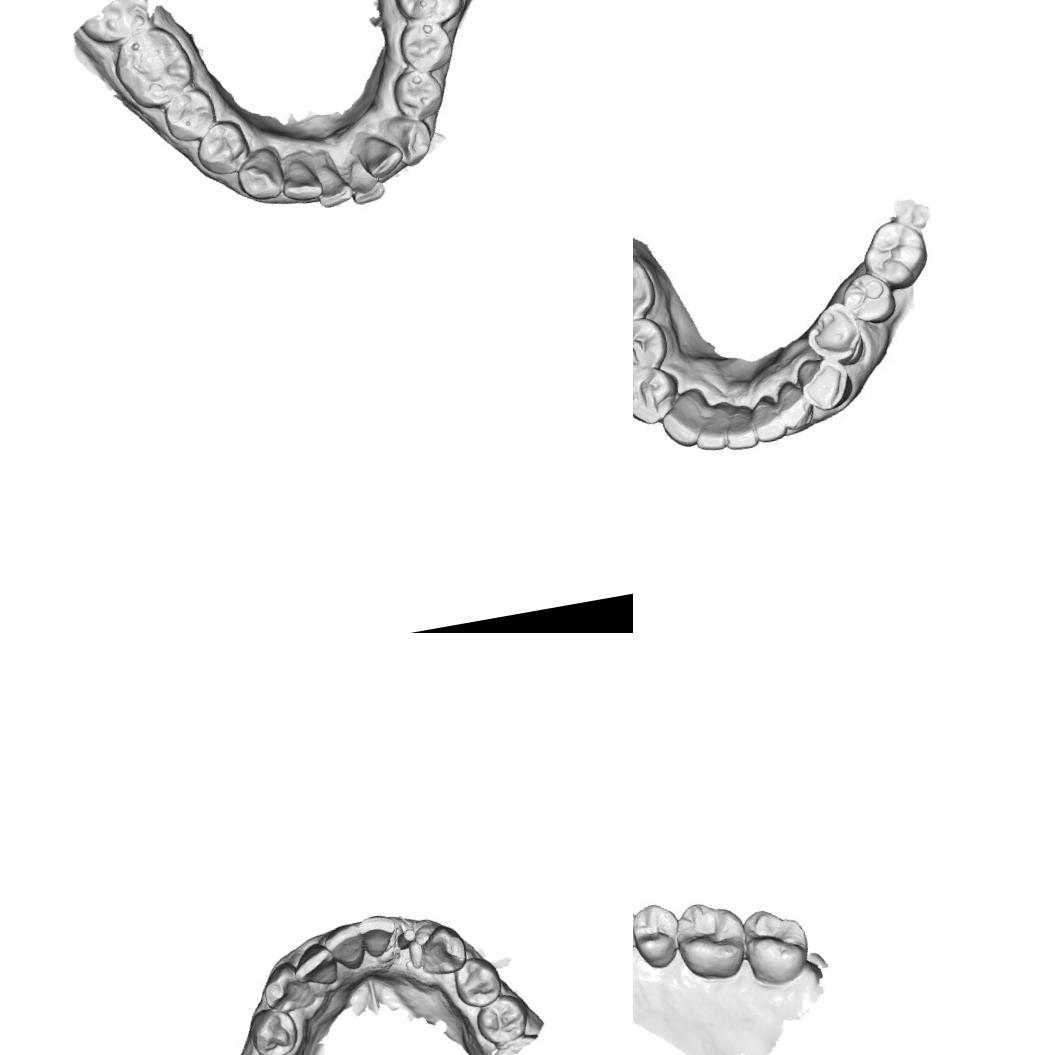abutment: (393, 923, 420, 951)
canine: (797, 352, 854, 415), (232, 142, 288, 204), (258, 957, 317, 1015), (412, 920, 470, 978), (382, 110, 436, 170), (657, 393, 710, 452)
incisor: (317, 920, 369, 974), (288, 938, 340, 990), (356, 128, 407, 181), (276, 152, 325, 204), (343, 151, 387, 206), (311, 158, 355, 210), (355, 910, 400, 960), (718, 403, 761, 454), (688, 405, 732, 454), (774, 380, 815, 432), (750, 396, 790, 446)
molar: (108, 20, 199, 115), (668, 894, 752, 986), (739, 902, 814, 989), (856, 214, 934, 295), (385, 0, 471, 31), (633, 248, 658, 337)
premolar: (801, 298, 868, 370), (836, 266, 898, 329), (191, 115, 252, 179), (633, 899, 686, 972), (394, 14, 456, 76), (160, 84, 220, 146), (470, 989, 532, 1048), (388, 65, 447, 124), (633, 362, 682, 430), (449, 952, 505, 1010), (243, 1002, 302, 1055), (633, 313, 671, 380)
